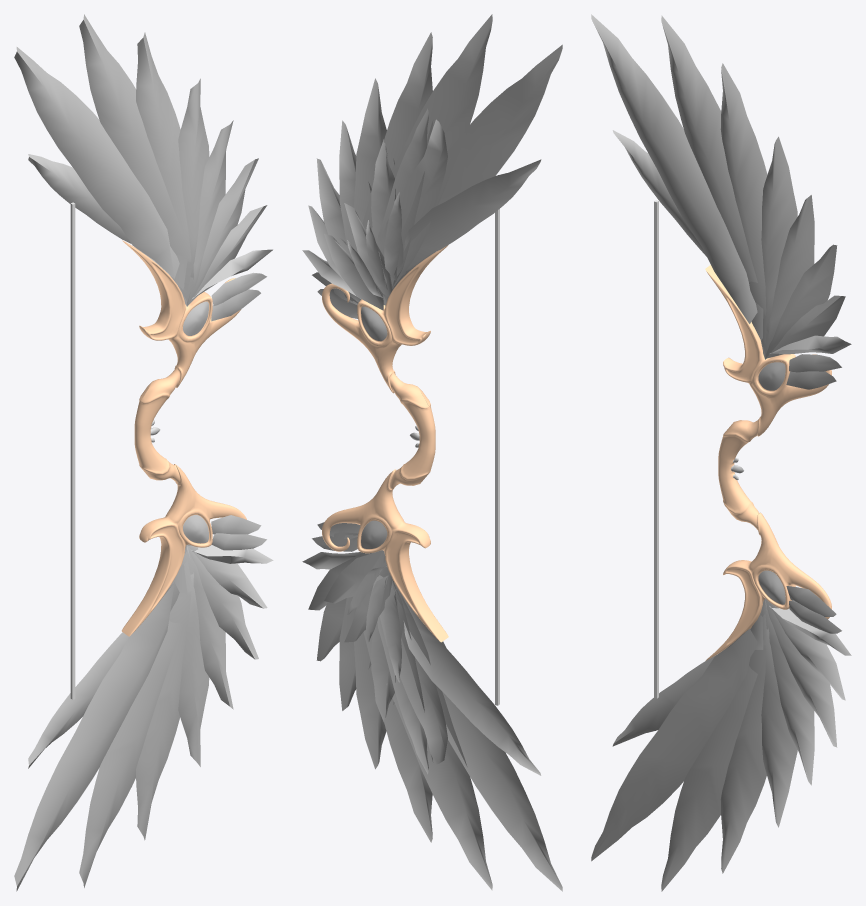
File: Weapon_Bow_Wind.glb
3 renders of one model, left to right at view 1: azimuth 30°, elevation 25°; view 2: azimuth 150°, elevation 25°; view 3: azimuth 330°, elevation 25°, orthographic.
Parts seen in each view (by area): view 1: Weapon_Bow_Wind; view 2: Weapon_Bow_Wind; view 3: Weapon_Bow_Wind.
Boxes of the visible parts, left/top/right/bottom form: Weapon_Bow_Wind: left=14, top=14, right=273, bottom=891; Weapon_Bow_Wind: left=302, top=14, right=562, bottom=891; Weapon_Bow_Wind: left=591, top=14, right=851, bottom=891.
Size of the model in its own units: 0.4642 by 1.5 by 0.0462.
